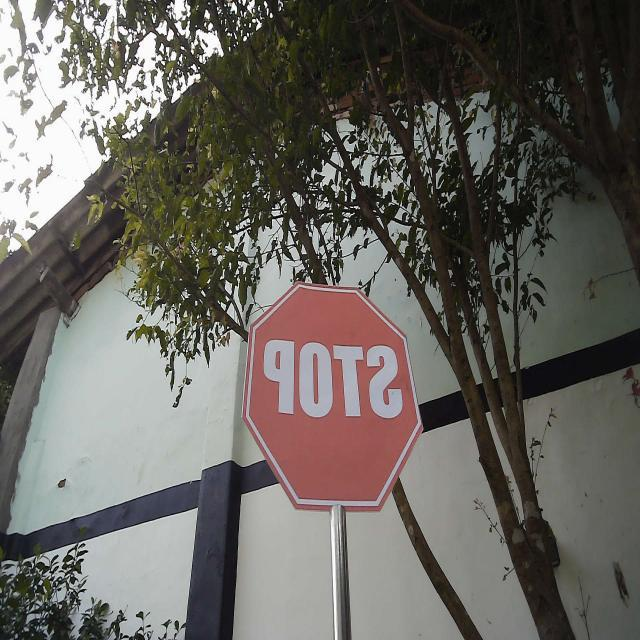stop: (239, 276, 425, 518)
